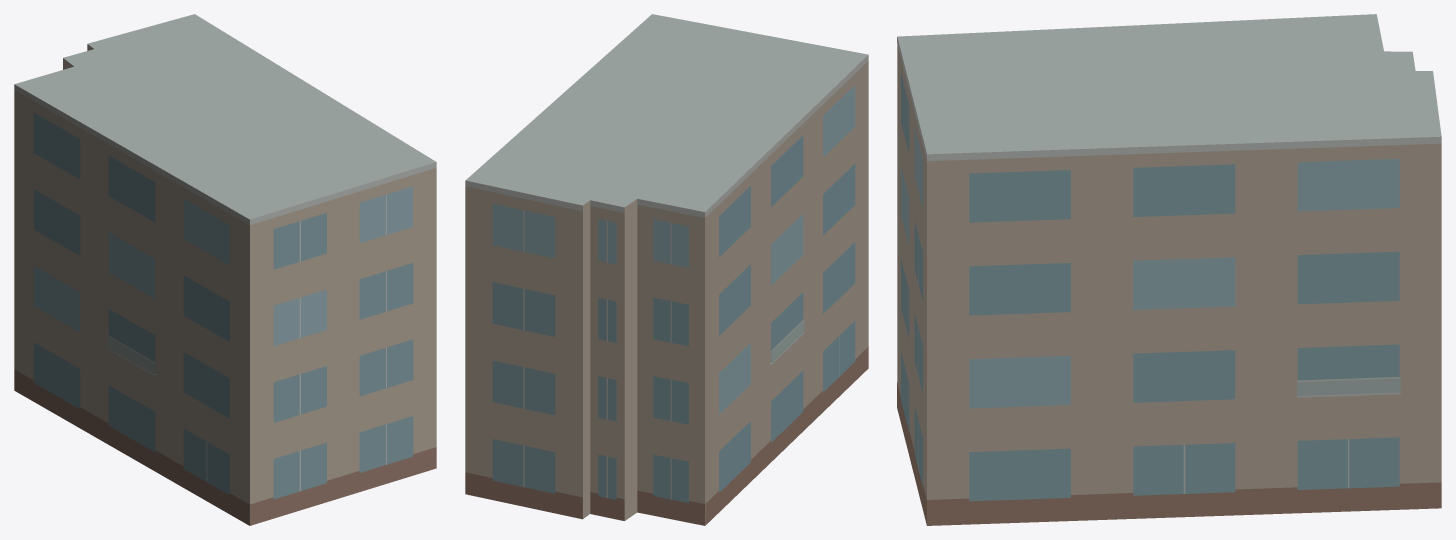
The model's file is survey-upis-32641270.glb.
3 views of the same model, side by side, from view 1: azimuth 30°, elevation 25°; view 2: azimuth 150°, elevation 25°; view 3: azimuth 270°, elevation 25° (orthographic). The views are drawn at different scales.
Visible parts, largest first — view 1: survey-upis-32641270.tmp; view 2: survey-upis-32641270.tmp; view 3: survey-upis-32641270.tmp.
Boxes of the visible parts, <box> form: survey-upis-32641270.tmp: <box>14,14,436,525</box>; survey-upis-32641270.tmp: <box>465,14,868,525</box>; survey-upis-32641270.tmp: <box>897,14,1441,525</box>.
Size of the model in its own units: 10.7 by 13.2 by 17.54.
